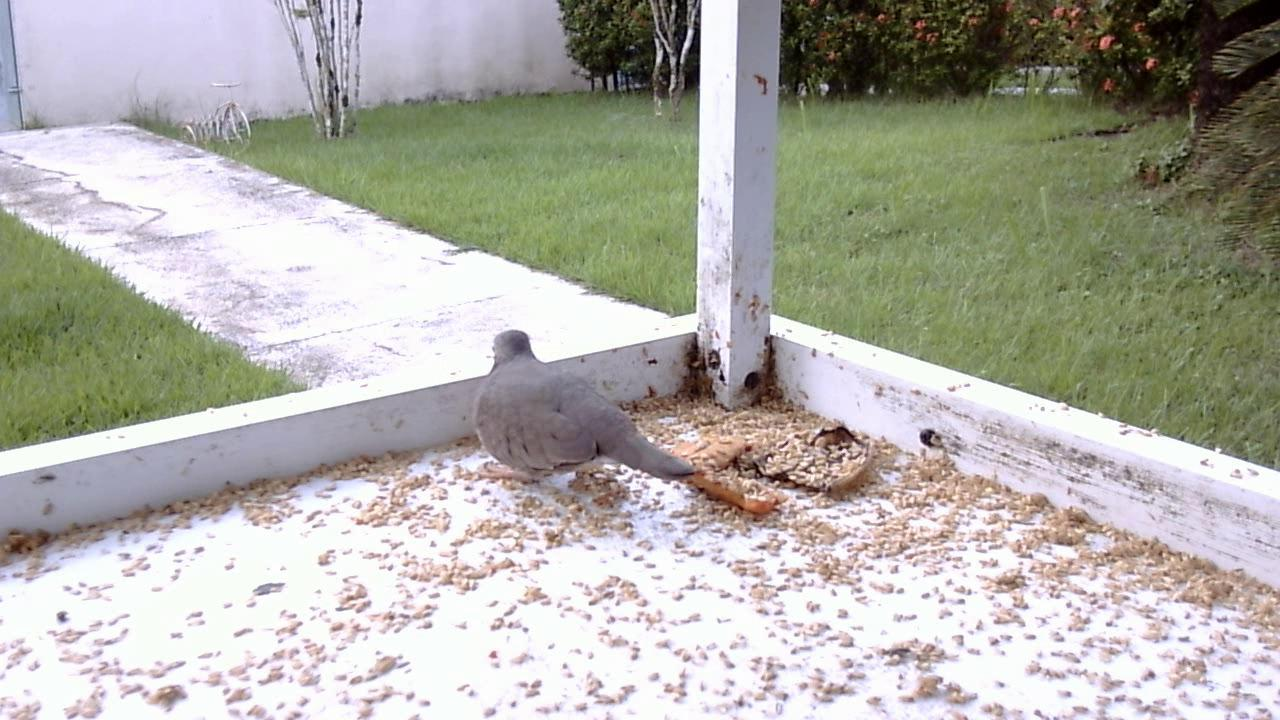rolinha: (465, 321, 718, 504)
